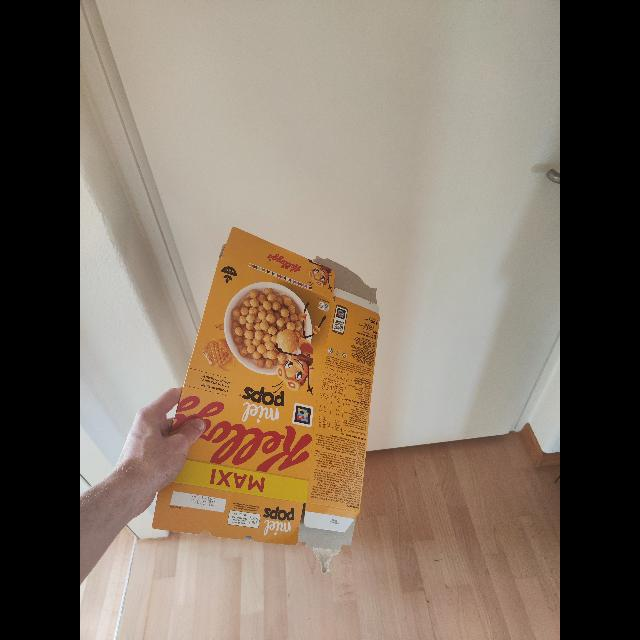Cardboard: (151, 224, 381, 556)
